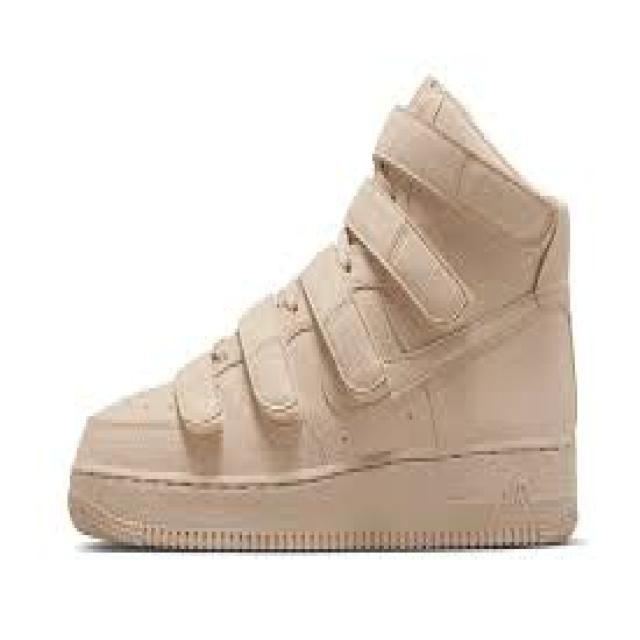shoe: (43, 49, 590, 573)
